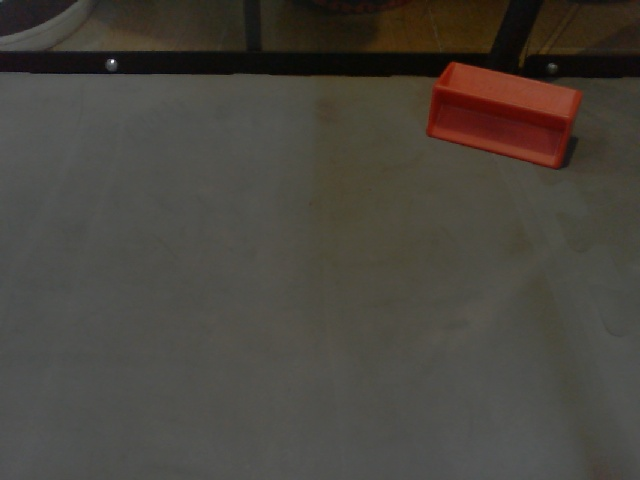RedSample: (425, 60, 585, 174)
